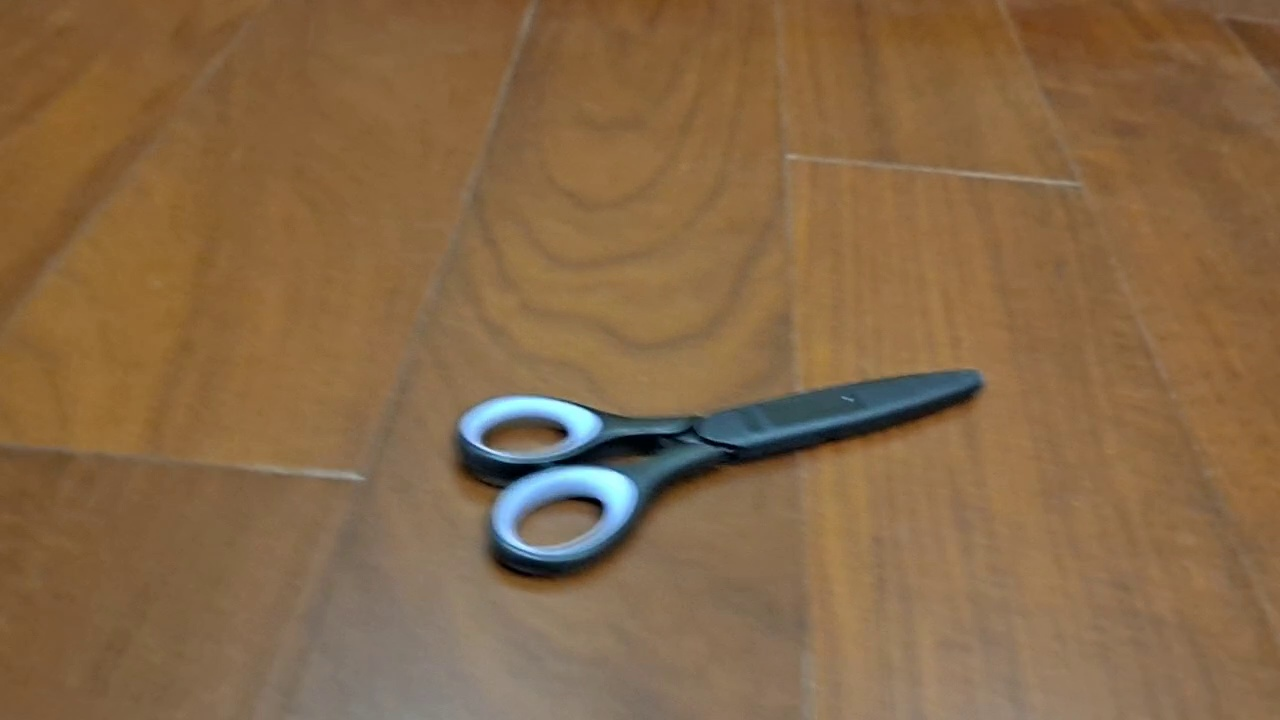scissors: (451, 367, 987, 582)
